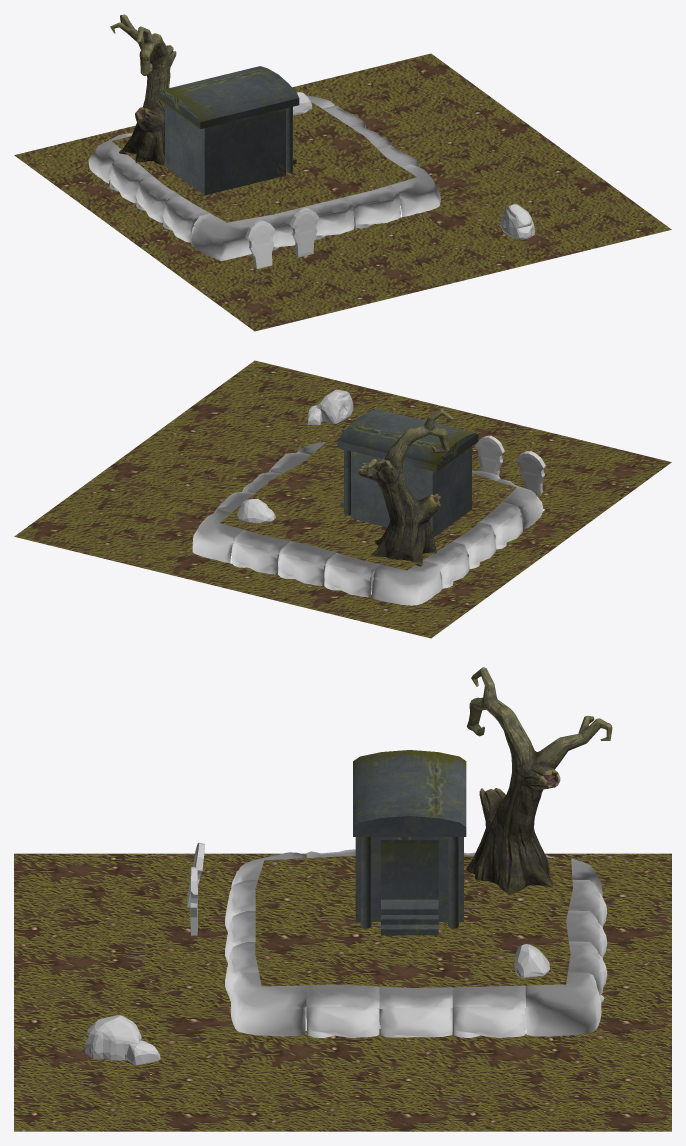
The model's file is Edge_Diorama_2.FBX.
3 views of the same model, one above another, from view 1: azimuth 30°, elevation 25°; view 2: azimuth 150°, elevation 25°; view 3: azimuth 270°, elevation 25° (orthographic). The views are drawn at different scales.
Parts seen in each view (by area): view 1: Floor018; view 2: Floor018; view 3: Floor018.
Part boxes in pixels (x1,y1,x2,y2): Floor018: (14, 14, 671, 331); Floor018: (14, 360, 671, 638); Floor018: (14, 667, 671, 1131).
Bounding box in the file's own units: 450 × 450 × 181.
